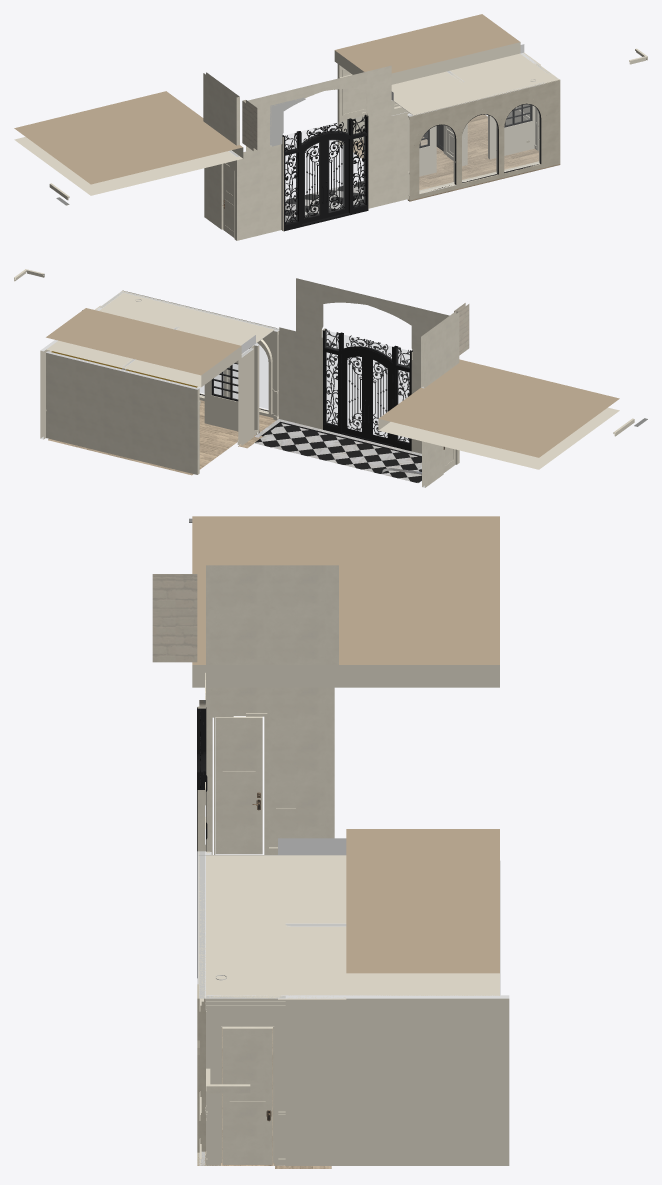
Rendered from office-hall-0672c8ca90c4.glb.
3 renders of one model, top to bottom at view 1: azimuth 30°, elevation 25°; view 2: azimuth 150°, elevation 25°; view 3: azimuth 270°, elevation 25°, orthographic. The views are drawn at different scales.
Visible parts, largest first — view 1: office-hall-look-2575515a05775d9e, office-hall-look-d5a4a1b5d3594c04, office-hall-c9e78b9ec1bb39cd, office-hall-dbd60ee5c3733ed6, office-hall-look-34525a54e63b733b, office-hall-look-bce662e26d5a5947, office-hall-38561c12898e4d43, office-hall-c02a36d0521470a9, office-hall-5cbcc744e6f960f3, office-hall-look-746250f96522f643, office-hall-look-dbd60ee5c3733ed6, office-hall-c374268555806af8 (+19 smaller); view 2: office-hall-look-2575515a05775d9e, office-hall-look-19647d6da46c2b80, office-hall-look-d5a4a1b5d3594c04, office-hall-look-c4ac463b6a960119, office-hall-look-34525a54e63b733b, office-hall-dbd60ee5c3733ed6, office-hall-look-3231f73bae020736, office-hall-look-bce662e26d5a5947, office-hall-look-746250f96522f643, office-hall-look-b3086b8cd368d7da, office-hall-look-26f615ec640e02ab, office-hall-look-6a051330000fbca1 (+17 smaller); view 3: office-hall-look-2575515a05775d9e, office-hall-look-6a1144f4e43410bb, office-hall-look-746250f96522f643, office-hall-look-85f0fd939e0fcc78, office-hall-dbd60ee5c3733ed6, office-hall-look-dbd60ee5c3733ed6, office-hall-cf6d22c5317ced0b, office-hall-look-3322bc58bedf5620, office-hall-68d06b361ac47823, office-hall-look-5e296beffb47d853, office-hall-c9e78b9ec1bb39cd, office-hall-look-bce662e26d5a5947.
Part boxes in pixels (bbox=[...]): office-hall-look-2575515a05775d9e: bbox=[14, 14, 520, 195]; office-hall-look-d5a4a1b5d3594c04: bbox=[236, 112, 407, 240]; office-hall-c9e78b9ec1bb39cd: bbox=[407, 82, 545, 200]; office-hall-dbd60ee5c3733ed6: bbox=[392, 63, 559, 115]; office-hall-look-34525a54e63b733b: bbox=[246, 65, 391, 151]; office-hall-look-bce662e26d5a5947: bbox=[282, 114, 368, 231]; office-hall-38561c12898e4d43: bbox=[419, 125, 454, 191]; office-hall-c02a36d0521470a9: bbox=[462, 115, 497, 180]; office-hall-5cbcc744e6f960f3: bbox=[504, 104, 539, 170]; office-hall-look-746250f96522f643: bbox=[203, 72, 239, 145]; office-hall-look-dbd60ee5c3733ed6: bbox=[391, 44, 540, 100]; office-hall-c374268555806af8: bbox=[407, 148, 560, 201]; office-hall-look-2575515a05775d9e: bbox=[46, 308, 619, 469]; office-hall-look-19647d6da46c2b80: bbox=[46, 351, 199, 474]; office-hall-look-d5a4a1b5d3594c04: bbox=[279, 327, 459, 462]; office-hall-look-c4ac463b6a960119: bbox=[254, 423, 421, 483]; office-hall-look-34525a54e63b733b: bbox=[296, 278, 449, 361]; office-hall-dbd60ee5c3733ed6: bbox=[99, 290, 276, 346]; office-hall-look-3231f73bae020736: bbox=[341, 351, 367, 438]; office-hall-look-bce662e26d5a5947: bbox=[323, 328, 412, 451]; office-hall-look-746250f96522f643: bbox=[421, 311, 459, 388]; office-hall-look-b3086b8cd368d7da: bbox=[325, 331, 409, 442]; office-hall-look-26f615ec640e02ab: bbox=[367, 352, 393, 445]; office-hall-look-6a051330000fbca1: bbox=[238, 347, 253, 445]; office-hall-look-2575515a05775d9e: bbox=[192, 516, 499, 995]; office-hall-look-6a1144f4e43410bb: bbox=[285, 995, 509, 1165]; office-hall-look-746250f96522f643: bbox=[206, 565, 338, 664]; office-hall-look-85f0fd939e0fcc78: bbox=[206, 687, 334, 854]; office-hall-dbd60ee5c3733ed6: bbox=[198, 855, 292, 998]; office-hall-look-dbd60ee5c3733ed6: bbox=[278, 838, 346, 999]; office-hall-cf6d22c5317ced0b: bbox=[222, 1028, 272, 1164]; office-hall-look-3322bc58bedf5620: bbox=[215, 716, 262, 854]; office-hall-68d06b361ac47823: bbox=[206, 995, 285, 1165]; office-hall-look-5e296beffb47d853: bbox=[152, 574, 197, 662]; office-hall-c9e78b9ec1bb39cd: bbox=[197, 851, 205, 1151]; office-hall-look-bce662e26d5a5947: bbox=[197, 707, 206, 977].
Bounding box in the file's own units: 21.96 × 5.17 × 5.78.
Materials: 33 (7 with a texture image).
